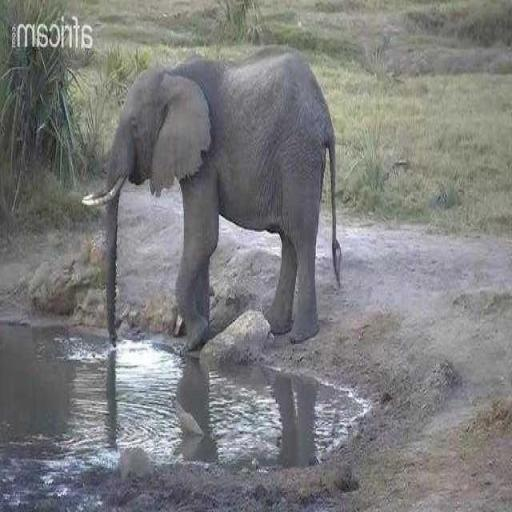Elephant: (80, 42, 342, 352)
